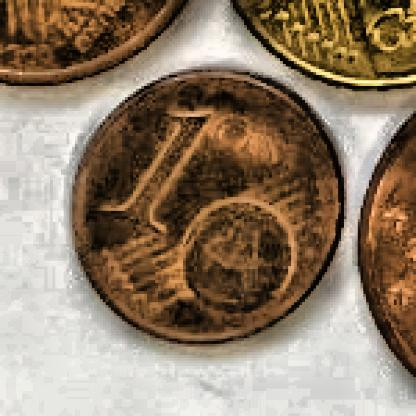coin: (69, 68, 345, 344)
